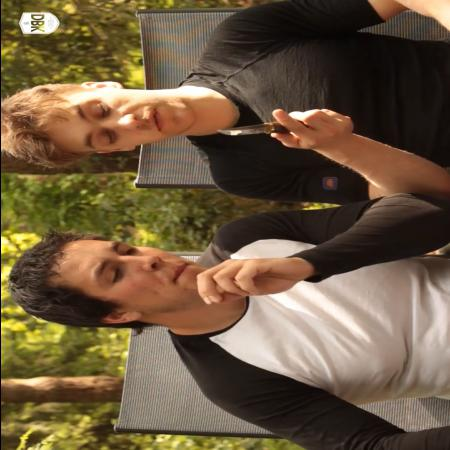long weapon: (199, 100, 330, 152)
